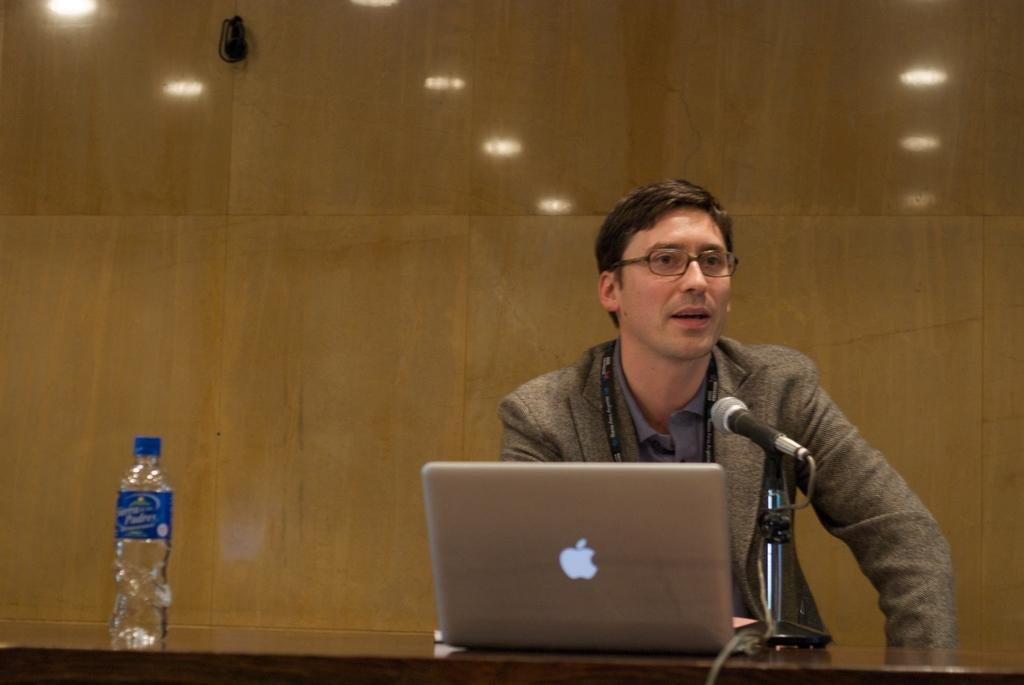Laptop: (424, 468, 770, 671)
